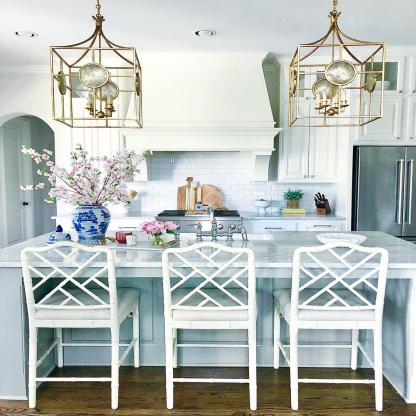chair: (17, 240, 140, 416), (271, 243, 389, 416), (156, 242, 265, 416)
door: (0, 114, 34, 245)
light: (8, 21, 42, 48), (188, 24, 212, 45)
table: (0, 230, 416, 402)
